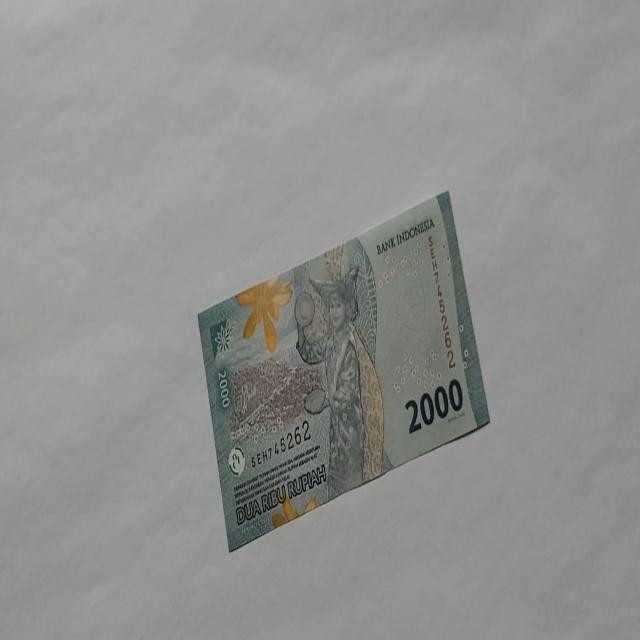dua ribu rupiah: (196, 188, 490, 552), (294, 263, 384, 501), (234, 273, 294, 354)
